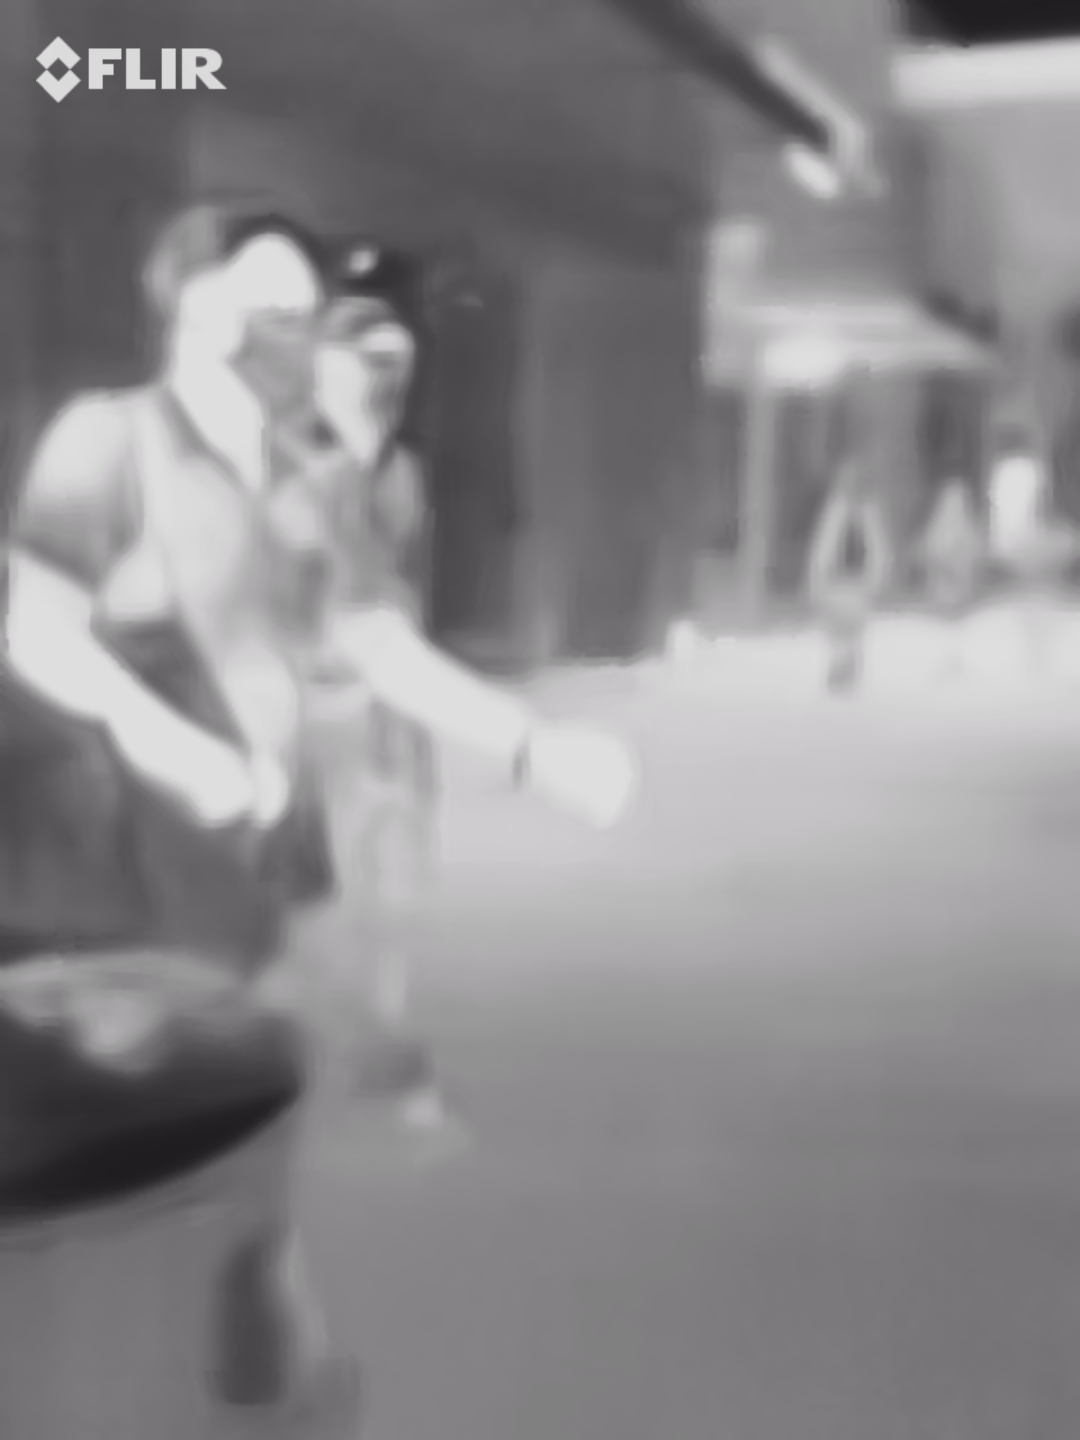head: (142, 192, 321, 431)
